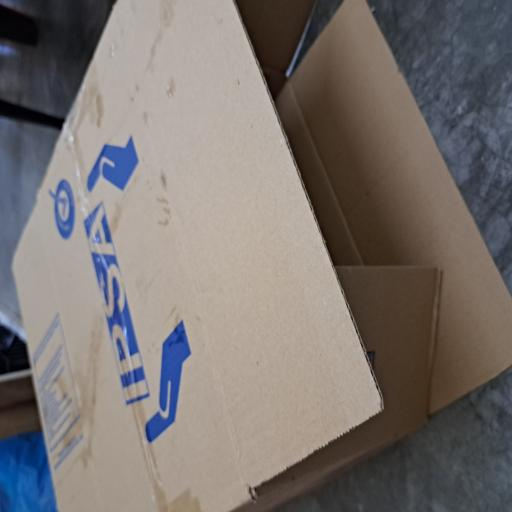cardboard: (0, 15, 384, 512)
plastic bag: (0, 0, 60, 73)
